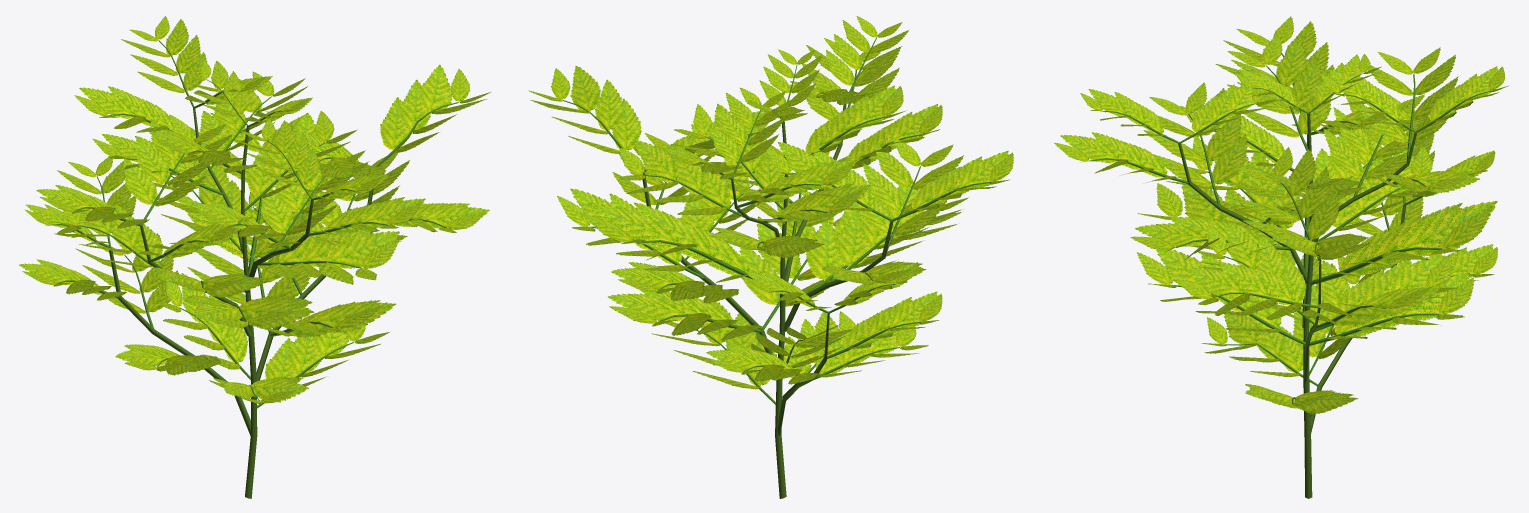
The model's file is ince uzun plant (cassia tira).fbx.
3 views of the same model, side by side, from view 1: azimuth 30°, elevation 25°; view 2: azimuth 150°, elevation 25°; view 3: azimuth 270°, elevation 25° (orthographic). The views are drawn at different scales.
Parts seen in each view (by area): view 1: cassia tira leaf, cassia tira branch; view 2: cassia tira leaf, cassia tira branch; view 3: cassia tira leaf, cassia tira branch.
Part boxes in pixels (x1,y1,x2,y2): cassia tira leaf: (19, 16, 490, 408); cassia tira branch: (109, 108, 373, 498); cassia tira leaf: (529, 16, 1013, 404); cassia tira branch: (642, 104, 893, 498); cassia tira leaf: (1054, 16, 1508, 414); cassia tira branch: (1178, 112, 1416, 498).
Size of the model in its own units: 3.18 by 2.75 by 2.69.
